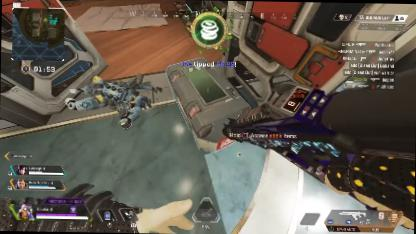Target: (82, 75, 156, 122)
